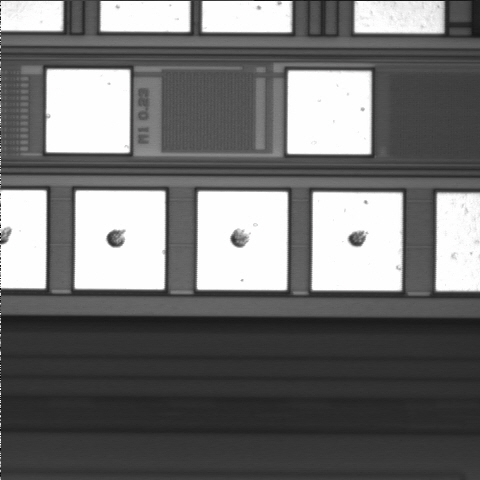pad: (197, 191, 288, 290), (312, 192, 402, 291), (75, 191, 165, 289), (46, 69, 130, 153), (287, 71, 371, 154)
